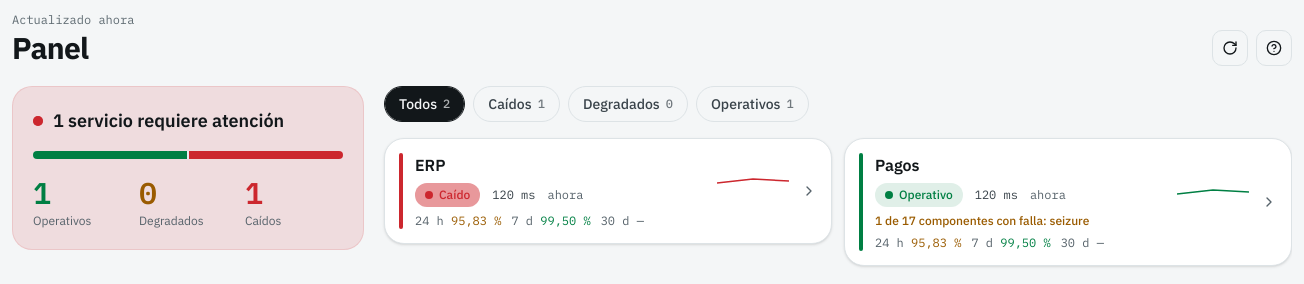
Test: DashboardView › filtra por estado
The width and height of the screenshot is (1304, 284).
expect the text "ERP" is shown: met, box [415,153,446,177]
Click the button "Operativos 1" at (752, 104), box [696,86,809,122]
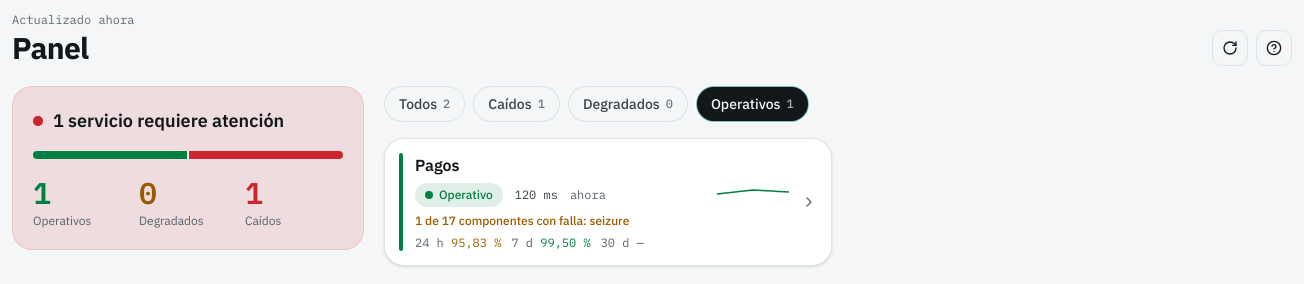
expect the text "Pagos" is shown: met, box [415,153,460,177]
expect the link "ERP" is gone: met
